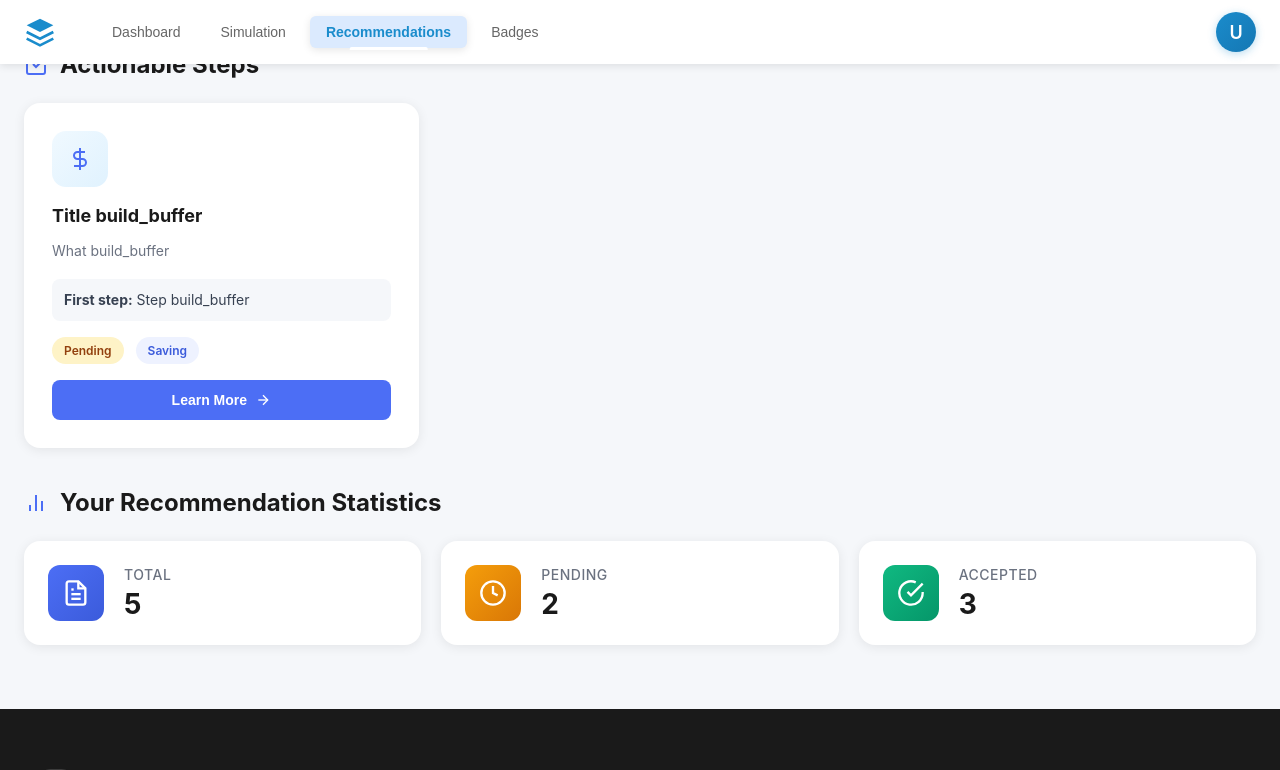
it: with recommendations › cannot update the status of a card that was not saved yet
The image size is (1280, 770).
(page scrolled)
expect the heading "Title build_buffer" is shown: met, box [52,205,202,226]
What coordinates should you click on to do the following:
click the button "Learn More"
I would click on:
 (221, 400)
Its box is [52,380,391,420].
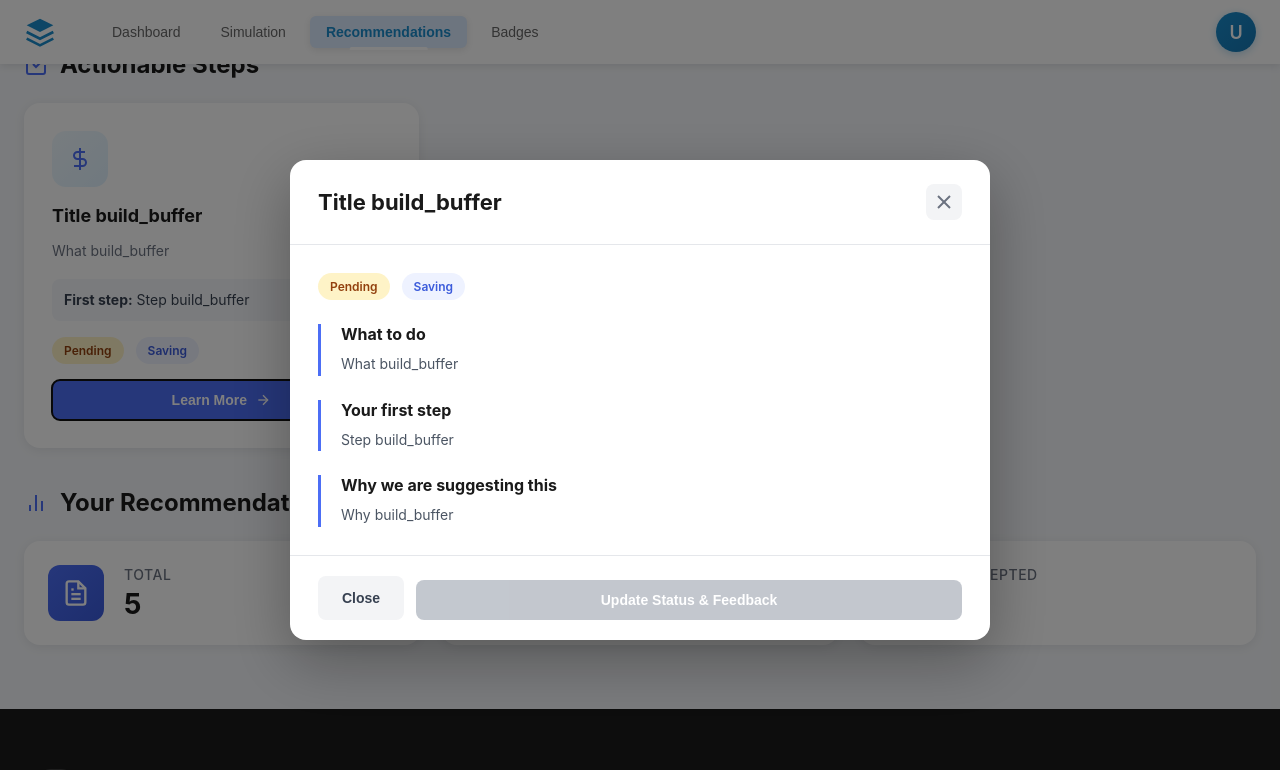
expect the button "Update Status & Feedback" is disabled: met, box [416,580,962,620]
